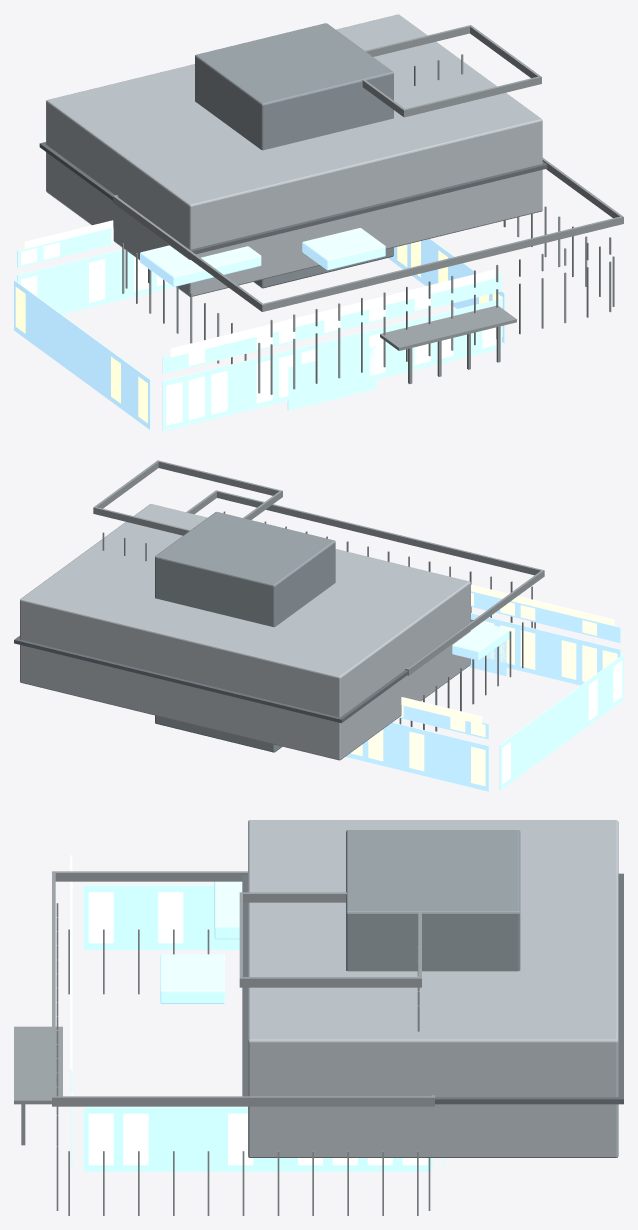
The model's file is mall.glb.
The picture shows the model from 3 angles, top to bottom: view 1: azimuth 30°, elevation 25°; view 2: azimuth 150°, elevation 25°; view 3: azimuth 270°, elevation 25°; orthographic projection. The views are drawn at different scales.
Parts seen in each view (by area): view 1: wall_panel, glass_cool, wall_dark, trim_metal, window_lit, roof_slab; view 2: wall_panel, glass_cool, wall_dark, trim_metal, window_lit, roof_slab; view 3: wall_panel, wall_dark, glass_cool, trim_metal, window_lit, roof_slab.
Part boxes in pixels (x1=…): wall_panel: x1=46, y1=14, x2=542, y2=296; glass_cool: x1=14, y1=227, x2=505, y2=431; wall_dark: x1=195, y1=23, x2=393, y2=288; trim_metal: x1=113, y1=25, x2=623, y2=394; window_lit: x1=15, y1=220, x2=502, y2=425; roof_slab: x1=39, y1=142, x2=547, y2=254; wall_panel: x1=20, y1=504, x2=470, y2=760; glass_cool: x1=345, y1=591, x2=623, y2=791; wall_dark: x1=155, y1=512, x2=335, y2=752; trim_metal: x1=93, y1=460, x2=544, y2=731; window_lit: x1=350, y1=584, x2=622, y2=786; roof_slab: x1=14, y1=619, x2=473, y2=723; wall_panel: x1=248, y1=820, x2=618, y2=1157; wall_dark: x1=346, y1=830, x2=520, y2=971; glass_cool: x1=71, y1=859, x2=444, y2=1171; trim_metal: x1=14, y1=871, x2=434, y2=1215; window_lit: x1=70, y1=855, x2=427, y2=1165; roof_slab: x1=242, y1=873, x2=623, y2=1104.
Size of the model in its own units: 62.69 by 27 by 55.95.
